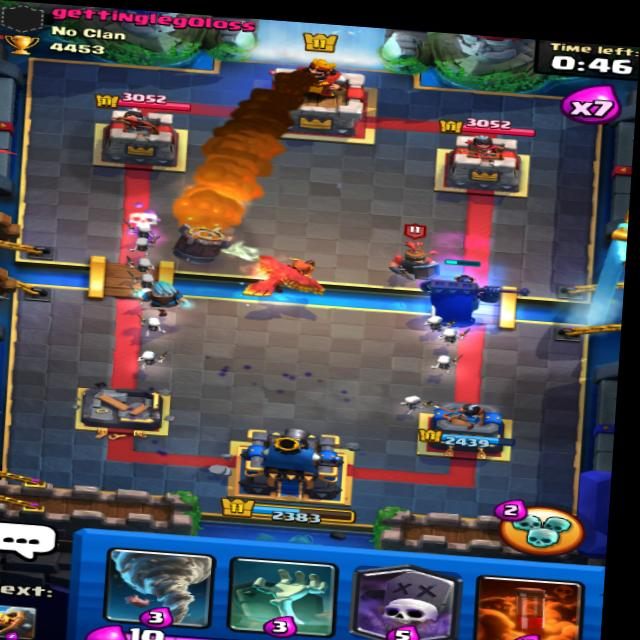rocket: (165, 215, 242, 268)
royal-recruits: (377, 218, 458, 285)
